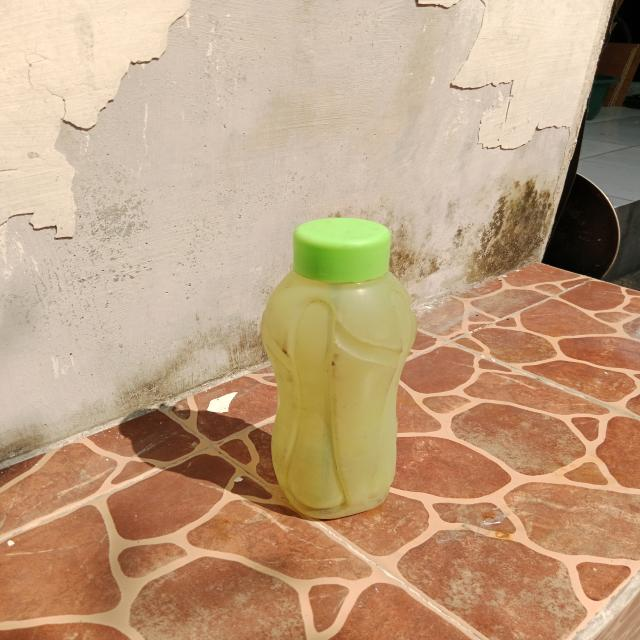botol_minum: (251, 213, 422, 532)
